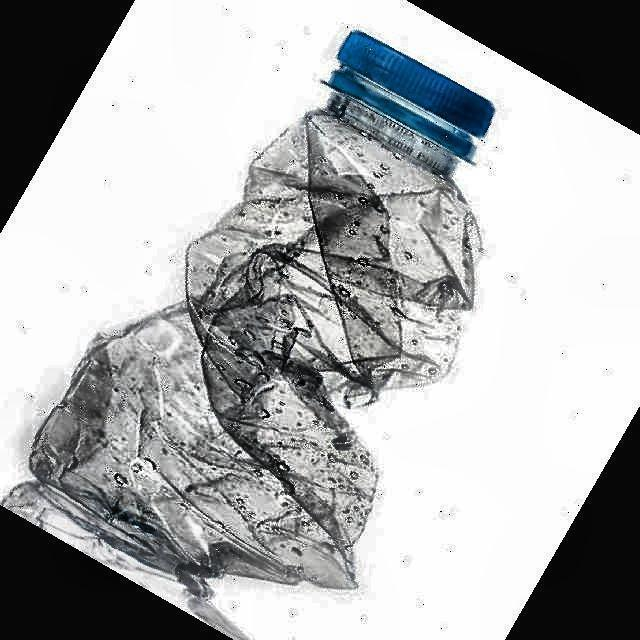plastic: (31, 32, 492, 591)
